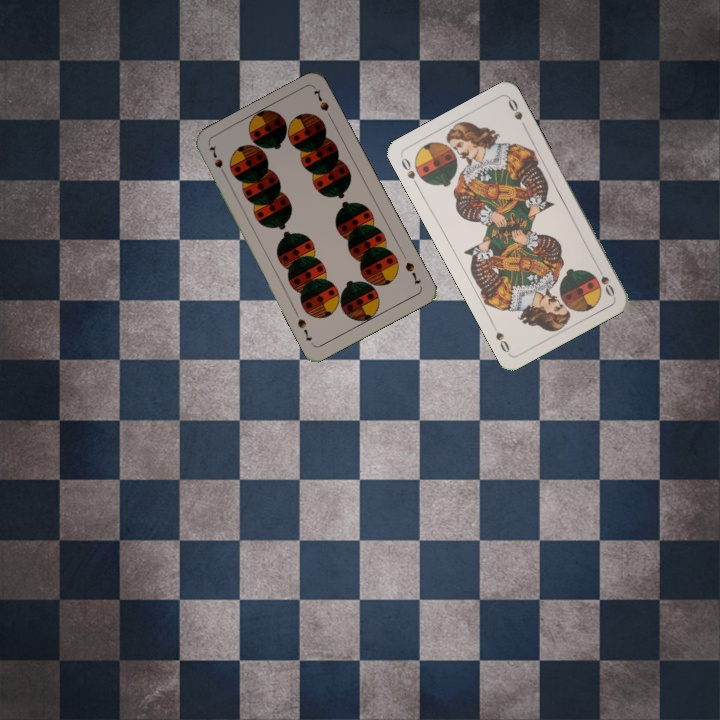S7: (205, 141, 229, 180), (401, 258, 423, 287)
SO: (592, 261, 617, 299), (397, 154, 421, 190)
